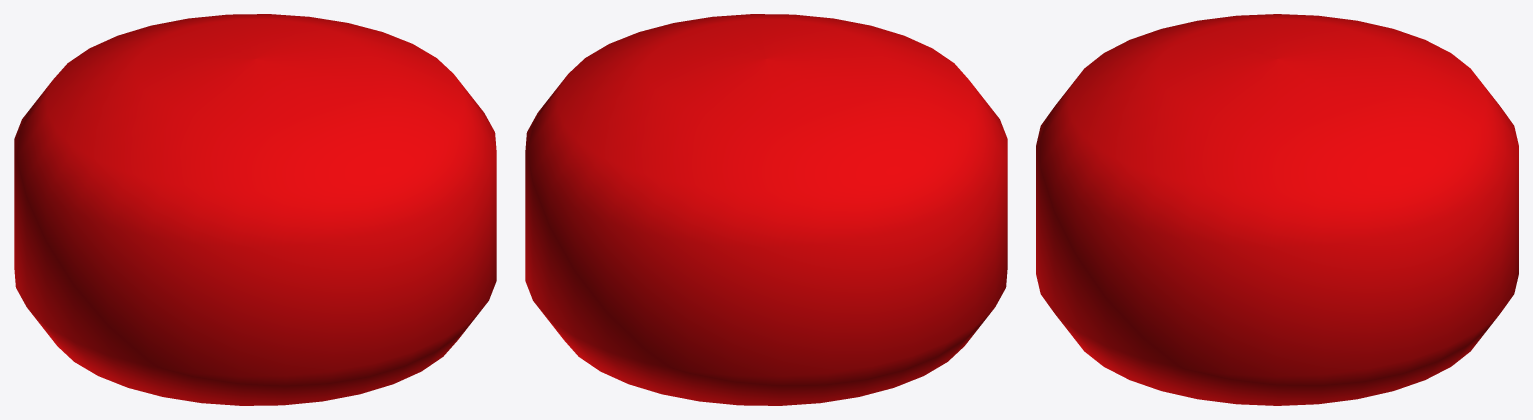
The model's file is Button.glb.
The picture shows the model from 3 angles, left to right: view 1: azimuth 30°, elevation 25°; view 2: azimuth 150°, elevation 25°; view 3: azimuth 270°, elevation 25°; orthographic projection.
Parts seen in each view (by area): view 1: Cylinder; view 2: Cylinder; view 3: Cylinder.
Part boxes in pixels (x1,y1,x2,y2): Cylinder: [14, 14, 496, 405]; Cylinder: [525, 14, 1007, 405]; Cylinder: [1036, 14, 1518, 405].
Size of the model in its own units: 0.1193 by 0.0823 by 0.1193.
